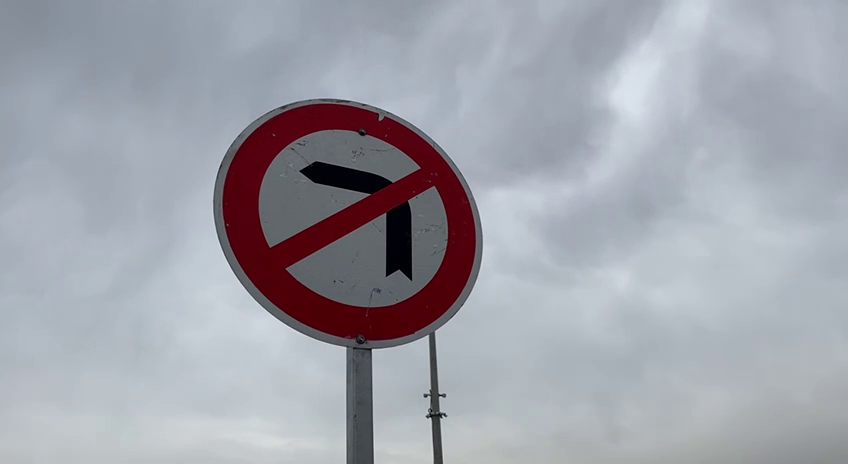noTurnLeft: (204, 94, 483, 354)
